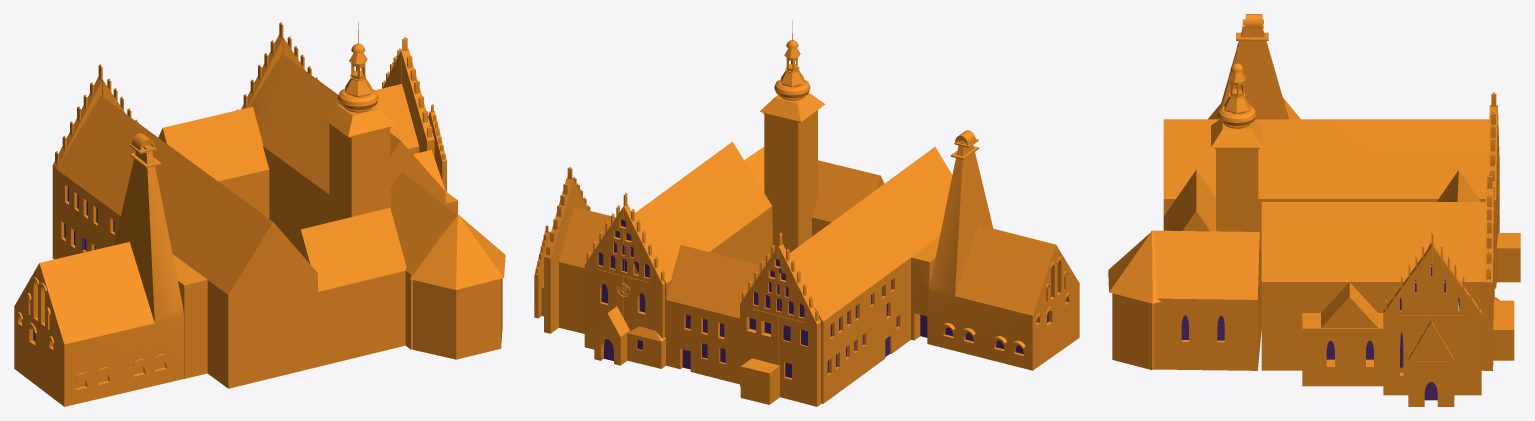
File: Kościół Bernardynów.obj
The picture shows the model from 3 angles, left to right: view 1: azimuth 30°, elevation 25°; view 2: azimuth 150°, elevation 25°; view 3: azimuth 270°, elevation 25°; orthographic projection. The views are drawn at different scales.
Visible parts, largest first — view 1: Kościół_Bernardynów_obj_0; view 2: Kościół_Bernardynów_obj_0; view 3: Kościół_Bernardynów_obj_0.
Part boxes in pixels (x1,y1,x2,y2): Kościół_Bernardynów_obj_0: (14,22,505,406); Kościół_Bernardynów_obj_0: (534,20,1079,406); Kościół_Bernardynów_obj_0: (1108,14,1520,406).
Bounding box in the file's own units: 42.2 × 25.09 × 32.45.
